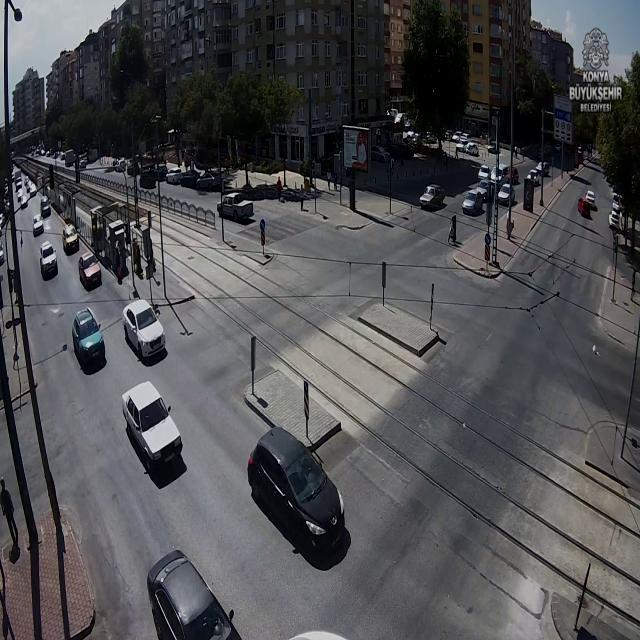Car: (248, 424, 348, 557), (146, 548, 237, 640), (122, 378, 182, 468), (123, 298, 167, 359), (74, 307, 105, 367), (217, 190, 255, 220), (76, 253, 103, 287), (40, 238, 58, 280), (419, 185, 445, 211), (461, 191, 482, 214), (62, 224, 79, 252), (499, 183, 515, 206), (40, 194, 51, 218), (32, 216, 44, 236), (578, 198, 590, 217), (478, 163, 492, 178), (584, 190, 596, 202)
